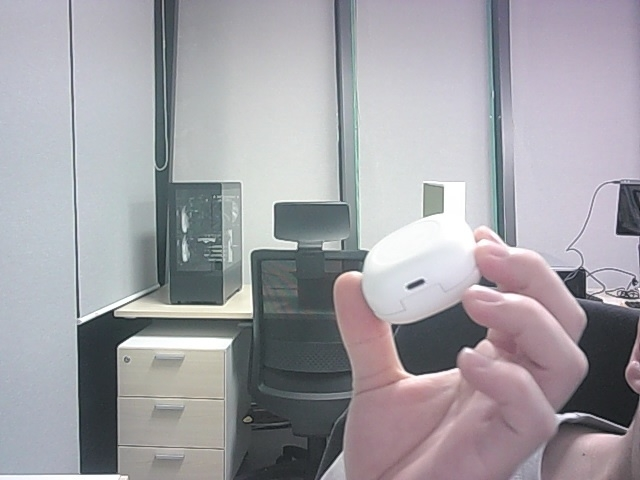case: (362, 213, 480, 324)
